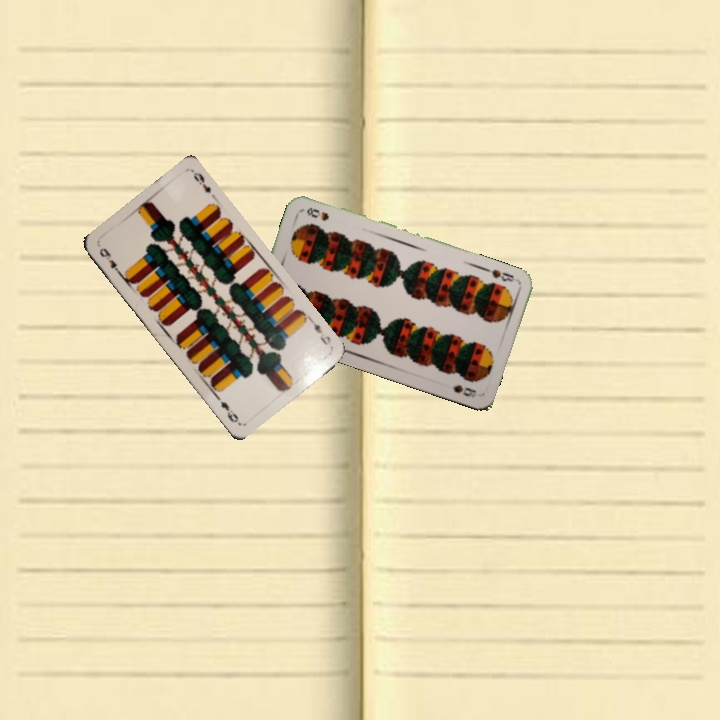E9: (95, 244, 124, 277), (306, 315, 333, 348)
S8: (479, 263, 517, 284)
